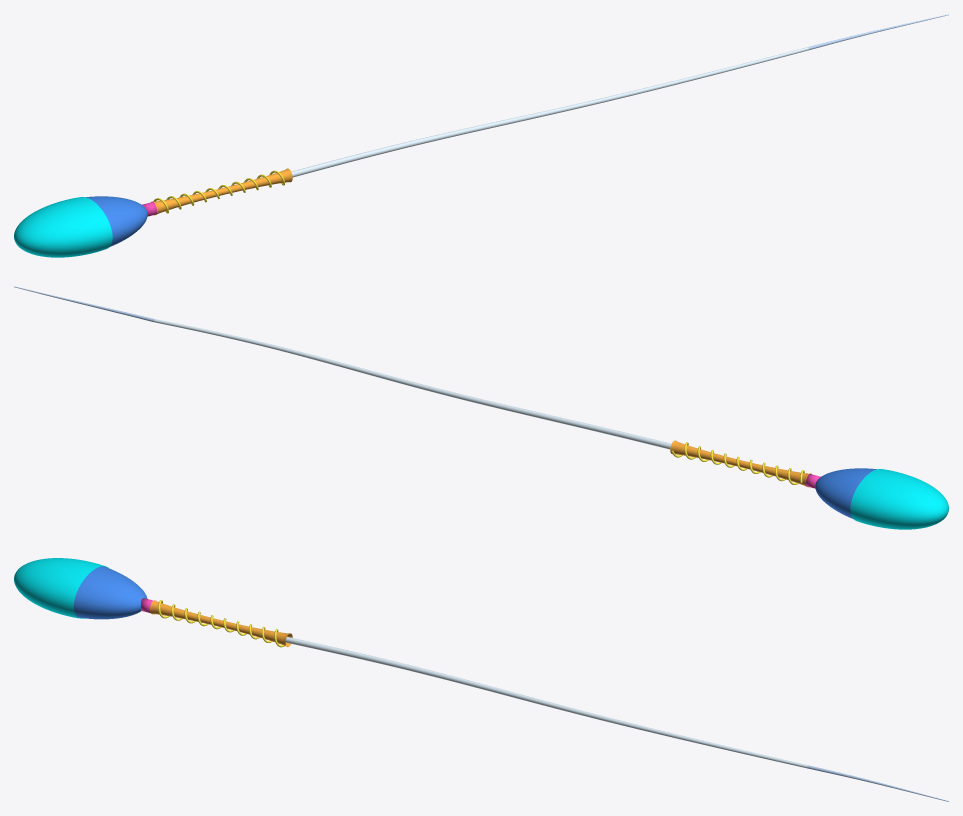
Rendered from 14_Pieza_intermedia_fina.glb.
The picture shows the model from 3 angles, top to bottom: view 1: azimuth 30°, elevation 25°; view 2: azimuth 150°, elevation 25°; view 3: azimuth 330°, elevation 25°; orthographic projection.
Visible parts, largest first — view 1: Cubierta_acrosomal_didactica.001, Cola_pieza_principal.001, Cabeza_nucleo.001, Pieza_intermedia_fina, Helice_mitocondrial_pieza_fina; view 2: Cubierta_acrosomal_didactica.001, Cola_pieza_principal.001, Cabeza_nucleo.001, Pieza_intermedia_fina, Helice_mitocondrial_pieza_fina; view 3: Cubierta_acrosomal_didactica.001, Cola_pieza_principal.001, Cabeza_nucleo.001, Pieza_intermedia_fina, Helice_mitocondrial_pieza_fina.
Boxes of the visible parts, box(x1,y1,x2,y2) form: Cubierta_acrosomal_didactica.001: box(14, 197, 112, 257); Cola_pieza_principal.001: box(291, 47, 808, 177); Cabeza_nucleo.001: box(86, 196, 147, 246); Pieza_intermedia_fina: box(151, 168, 292, 215); Helice_mitocondrial_pieza_fina: box(153, 170, 284, 213); Cubierta_acrosomal_didactica.001: box(850, 469, 948, 529); Cola_pieza_principal.001: box(154, 319, 671, 449); Cabeza_nucleo.001: box(815, 468, 876, 518); Pieza_intermedia_fina: box(670, 440, 811, 487); Helice_mitocondrial_pieza_fina: box(671, 442, 804, 484); Cubierta_acrosomal_didactica.001: box(14, 558, 108, 618); Cola_pieza_principal.001: box(285, 636, 807, 768); Cabeza_nucleo.001: box(73, 566, 147, 619); Pieza_intermedia_fina: box(150, 600, 292, 647); Helice_mitocondrial_pieza_fina: box(158, 600, 284, 647).
Bounding box in the file's own units: 62.85 × 2.93 × 4.65.
